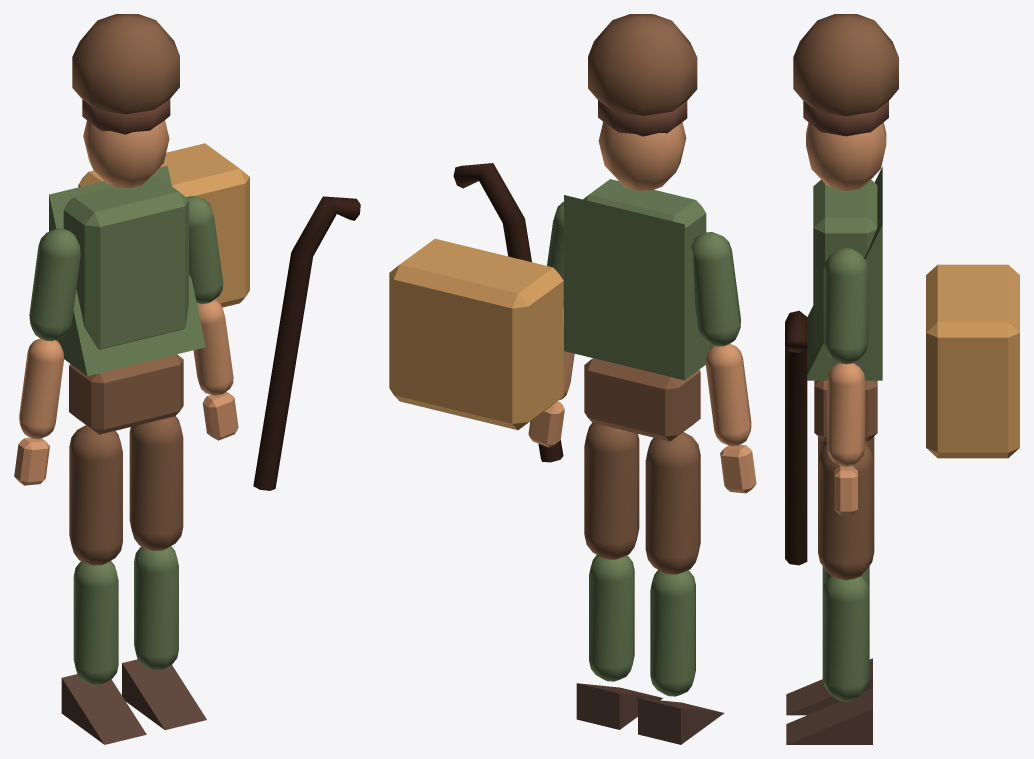
File: adventurer.rustic.glb
The picture shows the model from 3 angles, left to right: view 1: azimuth 30°, elevation 25°; view 2: azimuth 150°, elevation 25°; view 3: azimuth 270°, elevation 25°; orthographic projection.
Visible parts, largest first — view 1: torso, accessory.head, accessory.main-hand, accessory.back, thigh.left, pelvis, thigh.right, tunic, shin.left, shin.right, upper-arm.left, head (+8 smaller); view 2: accessory.back, tunic, accessory.head, pelvis, thigh.left, thigh.right, shin.right, shin.left, upper-arm.left, head, forearm.left, accessory.main-hand (+7 smaller); view 3: accessory.back, accessory.head, accessory.main-hand, shin.right, thigh.right, torso, upper-arm.right, head, tunic, forearm.right, foot.right, hair (+3 smaller).
Part boxes in pixels (x1=…): torso: x1=63, y1=176, x2=188, y2=349; accessory.head: x1=72, y1=14, x2=179, y2=114; accessory.main-hand: x1=253, y1=196, x2=360, y2=490; accessory.back: x1=78, y1=143, x2=249, y2=307; thigh.left: x1=69, y1=425, x2=122, y2=565; pelvis: x1=69, y1=354, x2=183, y2=434; thigh.right: x1=129, y1=416, x2=183, y2=550; tunic: x1=49, y1=165, x2=205, y2=375; shin.left: x1=73, y1=561, x2=118, y2=685; shin.right: x1=134, y1=546, x2=178, y2=670; upper-arm.left: x1=29, y1=228, x2=80, y2=341; head: x1=83, y1=120, x2=169, y2=187; accessory.back: x1=389, y1=238, x2=563, y2=430; tunic: x1=564, y1=195, x2=713, y2=380; accessory.head: x1=588, y1=14, x2=697, y2=115; pelvis: x1=584, y1=358, x2=700, y2=441; thigh.left: x1=645, y1=432, x2=700, y2=574; thigh.right: x1=584, y1=422, x2=639, y2=559; shin.right: x1=589, y1=555, x2=634, y2=681; shin.left: x1=650, y1=570, x2=695, y2=696; upper-arm.left: x1=691, y1=232, x2=740, y2=346; head: x1=598, y1=122, x2=686, y2=190; forearm.left: x1=706, y1=344, x2=751, y2=446; accessory.main-hand: x1=453, y1=163, x2=563, y2=462; accessory.back: x1=926, y1=264, x2=1019, y2=458; accessory.head: x1=793, y1=14, x2=898, y2=116; accessory.main-hand: x1=785, y1=310, x2=807, y2=565; shin.right: x1=822, y1=576, x2=869, y2=701; thigh.right: x1=818, y1=444, x2=874, y2=580; torso: x1=813, y1=180, x2=877, y2=352; upper-arm.right: x1=823, y1=248, x2=868, y2=364; head: x1=806, y1=122, x2=886, y2=190; tunic: x1=807, y1=167, x2=882, y2=380; forearm.right: x1=827, y1=363, x2=865, y2=466; foot.right: x1=786, y1=688, x2=872, y2=744; hair: x1=803, y1=101, x2=888, y2=136.
Bounding box in the file's own units: 1.57 × 3.29 × 1.
